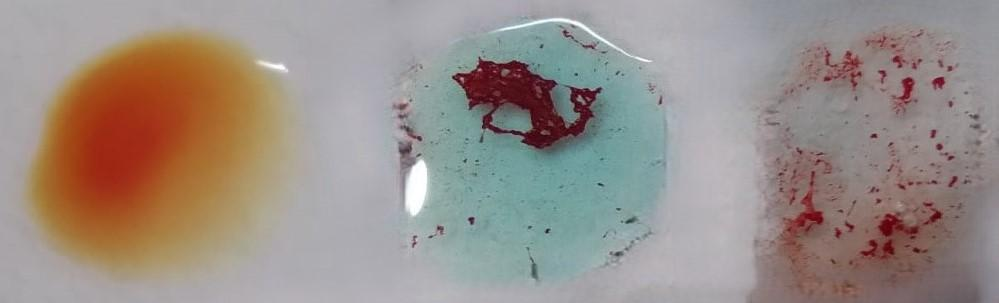A: (396, 20, 669, 287)
D: (753, 22, 986, 303)
